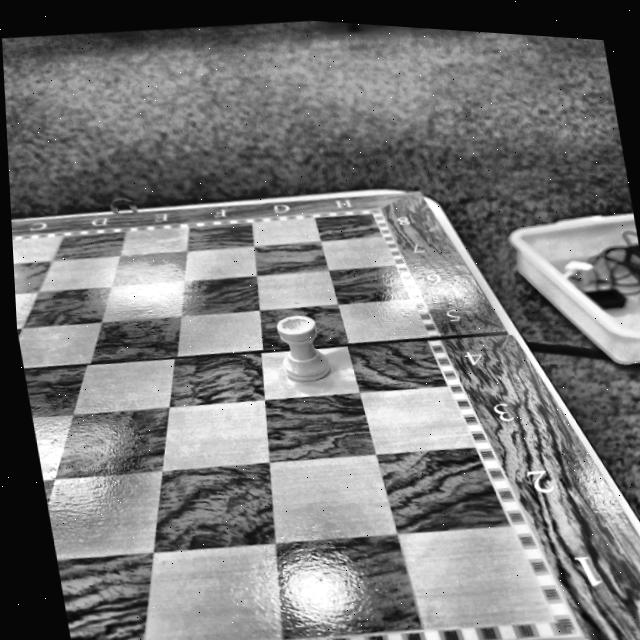white-rook: (274, 312, 332, 383)
